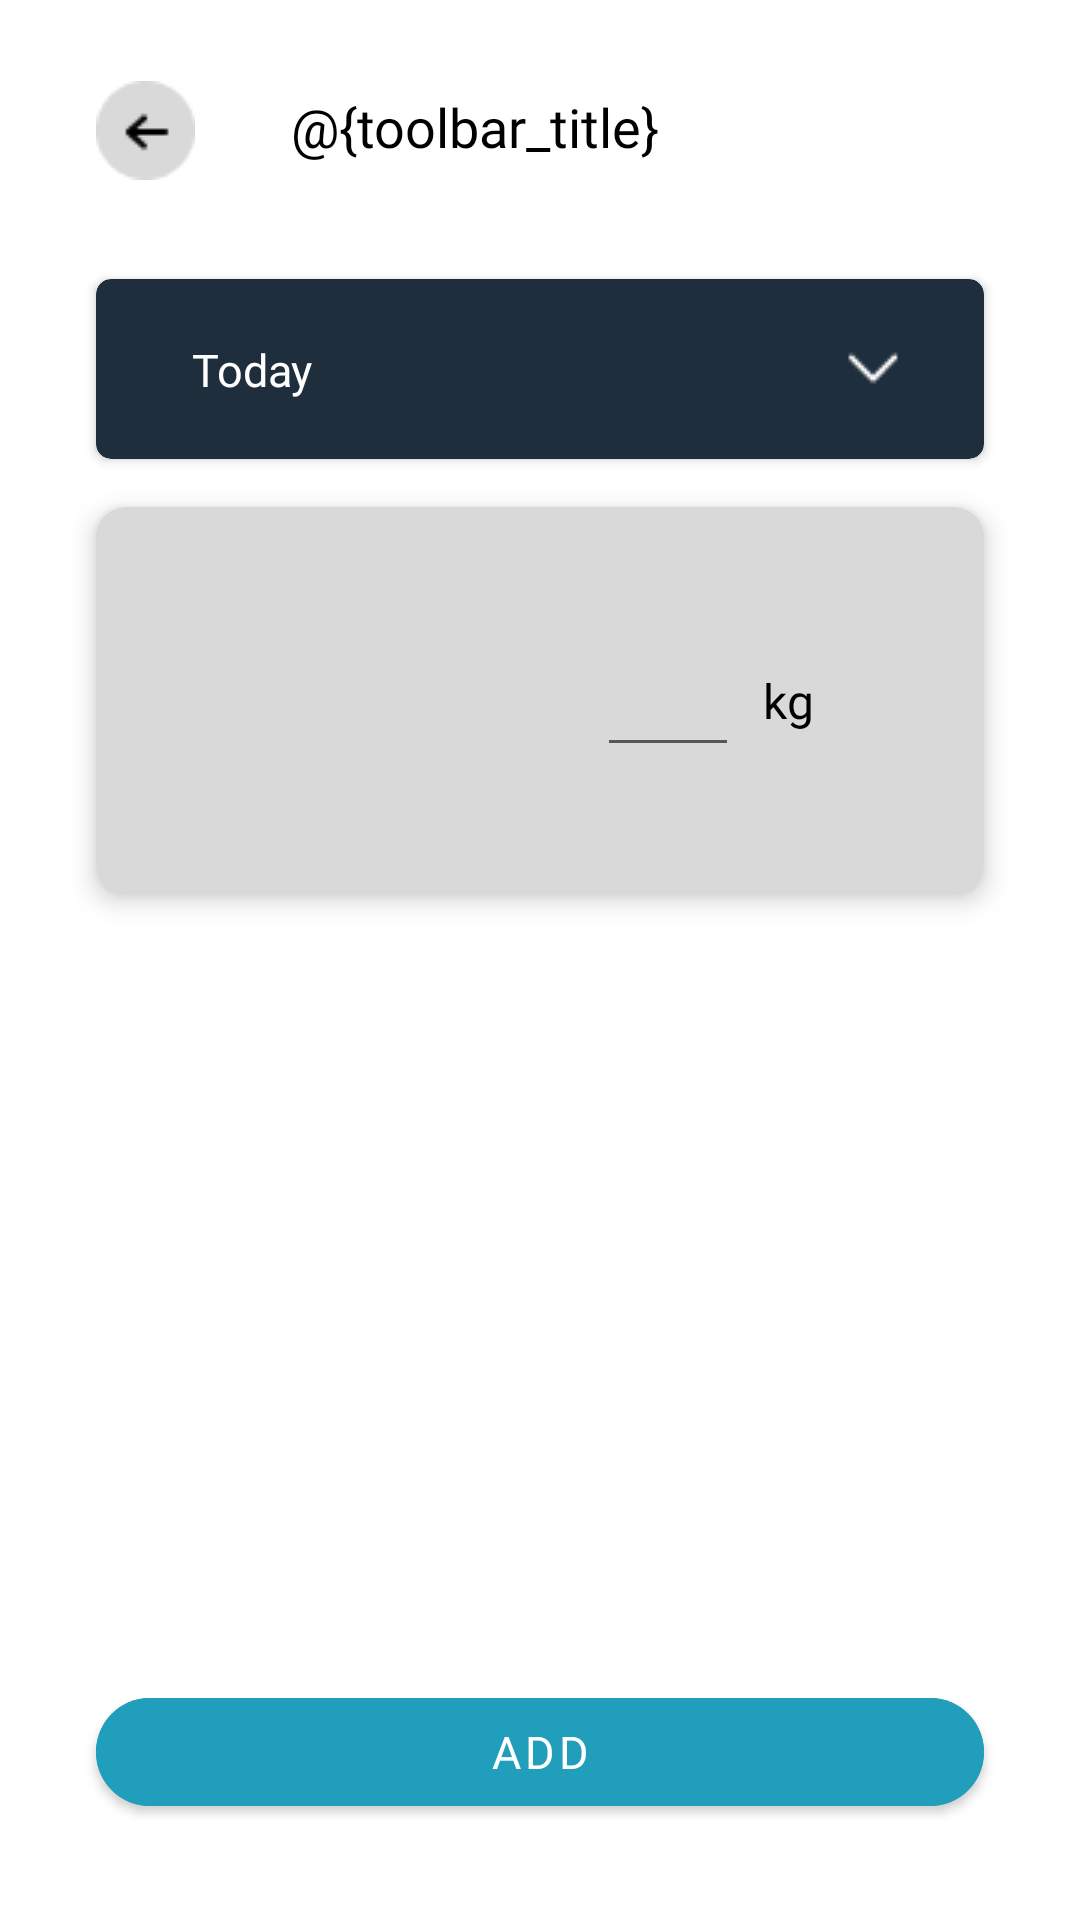

Screen size 1080 x 1920. Icon name, then its box in pixels as [x1,y1,x2,y2]:
back: [96,81,195,180]
down arrow: [848,352,898,384]
